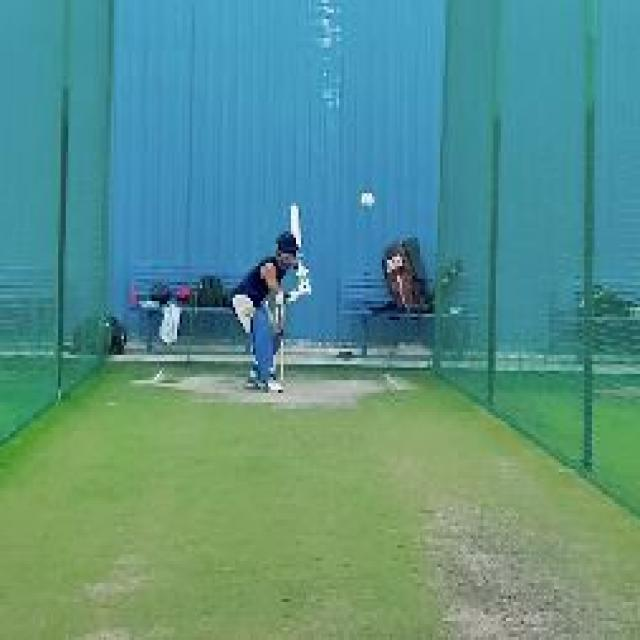ball: (356, 190, 379, 213)
